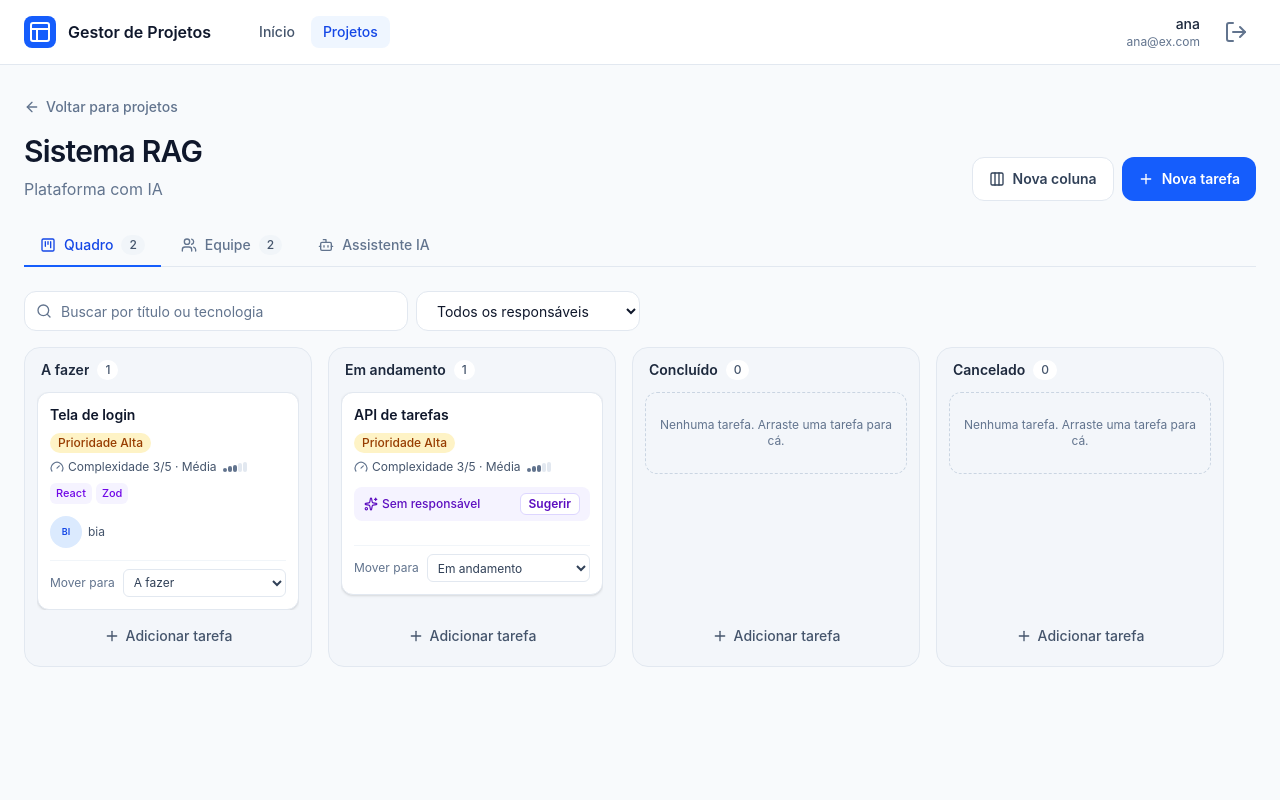
Test: ProjectBoardPage — quadro › move pela alternativa acessível e persiste o novo status
Expected: the element "Tela de login" is shown, top-left (37, 392), bottom-right (299, 610)
Step 1. Select "Concluído" in the dropdown named "Mover \"Tela de login\" para" → (204, 582), box top-left (123, 568), bottom-right (286, 596)
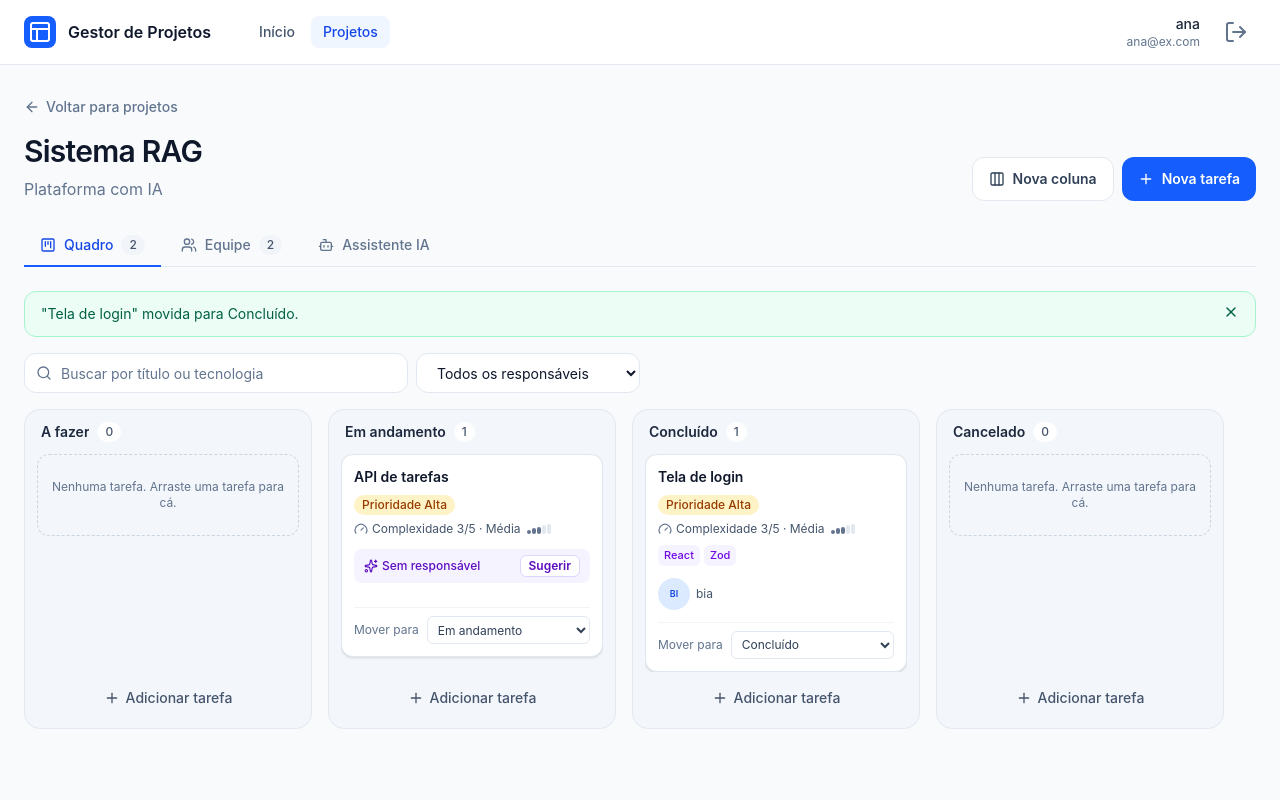
Expected: the element "Tela de login" is shown, top-left (645, 454), bottom-right (907, 672)
Expected: the message reads "\"Tela de login\" movida para Concluído.", top-left (41, 305), bottom-right (299, 322)
